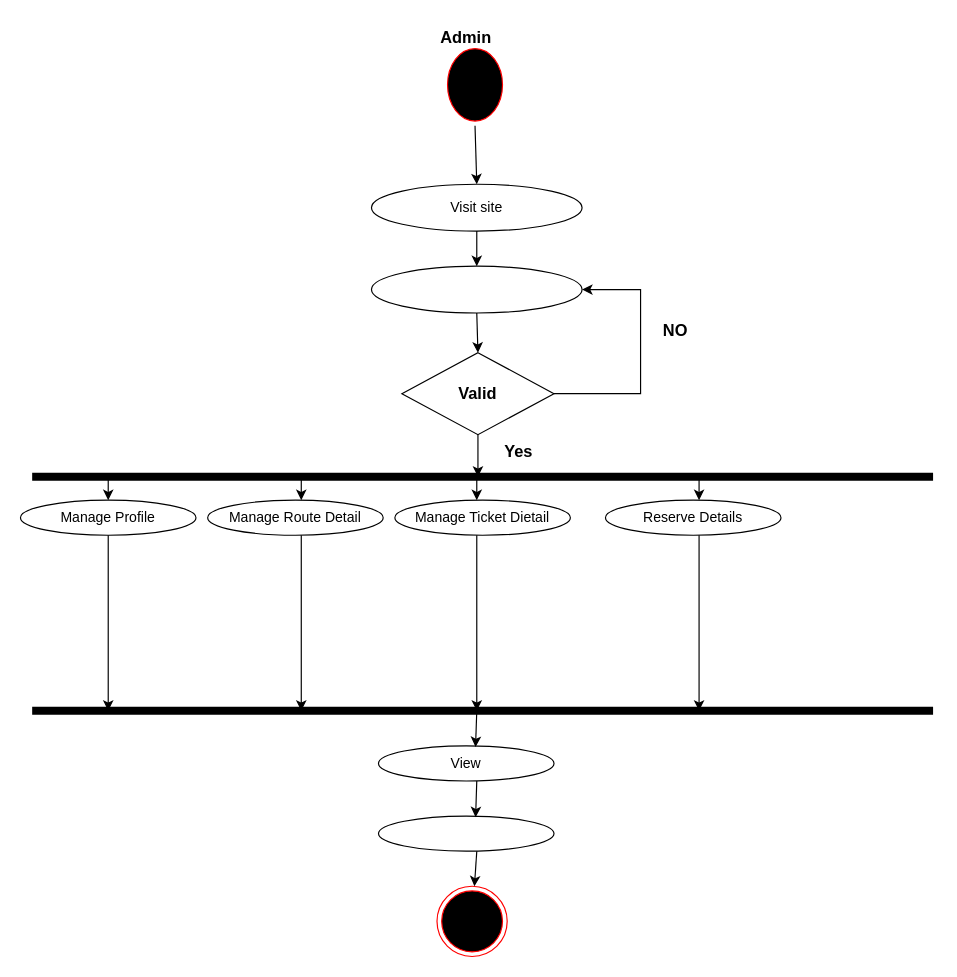
Some shapes in this 957 by 977 pixel diagram are drawn without their labels. The shapes that lost their labels are listed below. From the top down, each one's centre as x and y in pixels, then its label:
pixel 476 289: Login
pixel 465 833: Logout
